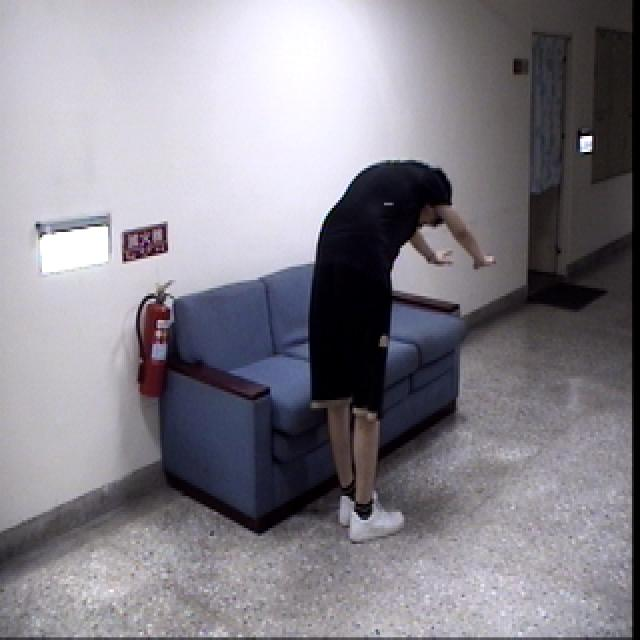bend: (291, 143, 500, 552)
